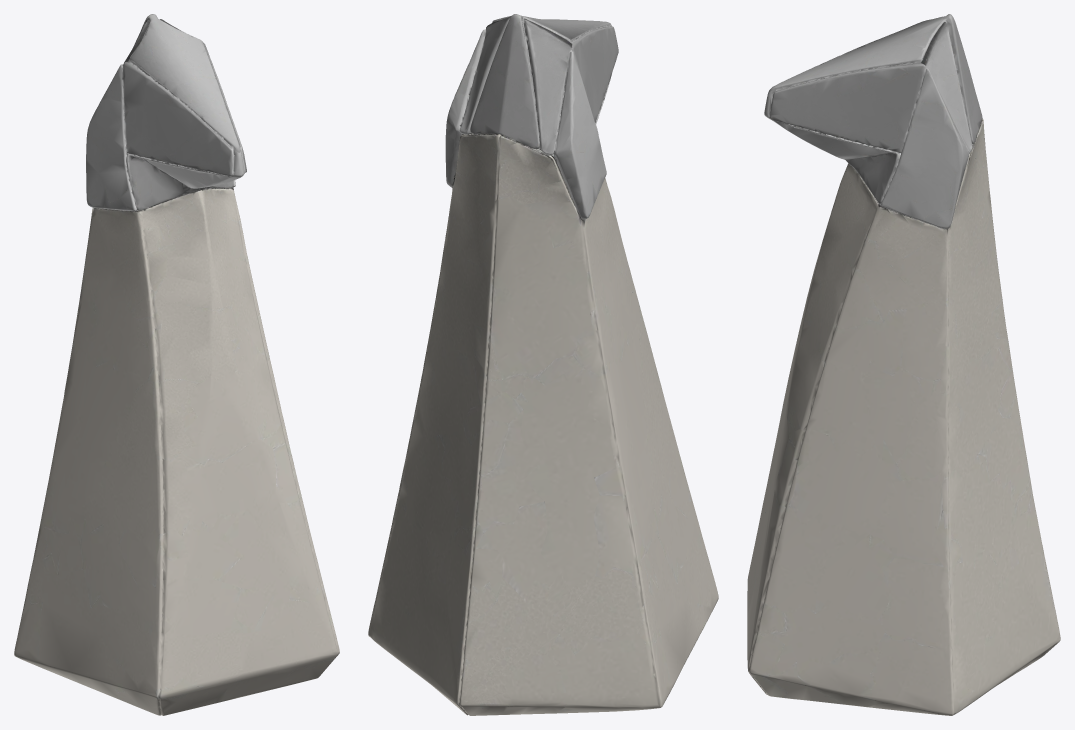
Rendered from knight-white-hd.glb.
3 views of the same model, side by side, from view 1: azimuth 30°, elevation 25°; view 2: azimuth 150°, elevation 25°; view 3: azimuth 270°, elevation 25° (orthographic). The views are drawn at different scales.
Size of the model in its own units: 0.622 by 1.35 by 0.5972.
1 material, 1 textured.
